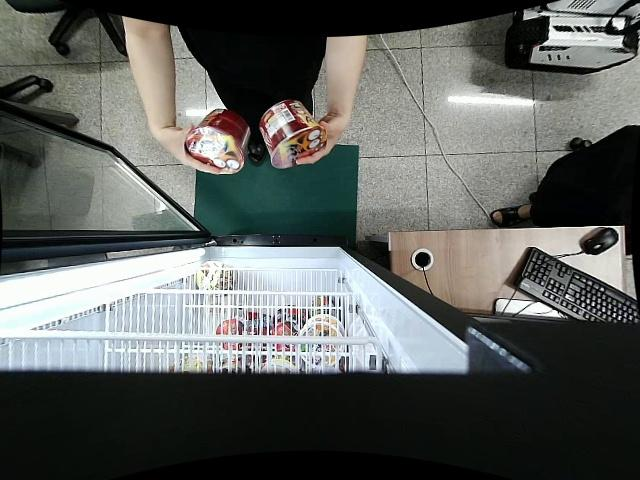00_hand: (162, 121, 222, 176), (297, 113, 346, 165)
05_nuguri_L: (259, 100, 326, 168), (185, 109, 249, 175)
